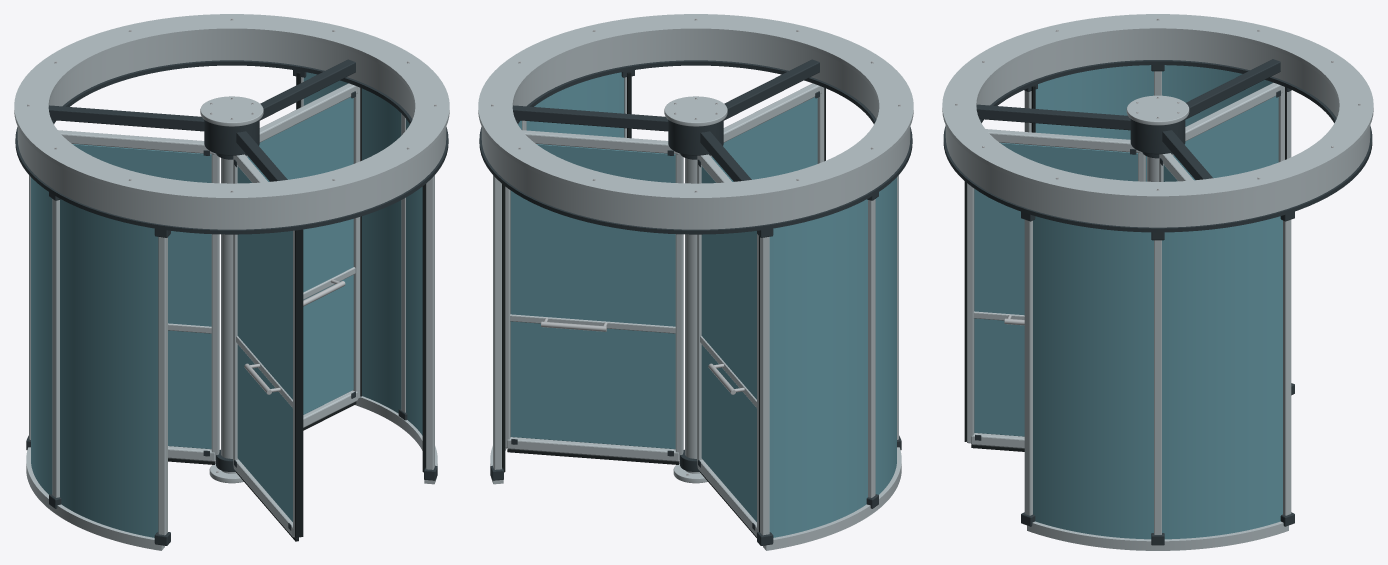
File: city-revolving-entry-door.glb
3 views of the same model, side by side, from view 1: azimuth 30°, elevation 25°; view 2: azimuth 150°, elevation 25°; view 3: azimuth 270°, elevation 25° (orthographic).
Parts seen in each view (by area): view 1: Assembly | Opaque blue-tinted glazing substitute, Assembly | Brushed natural aluminium, Assembly | Graphite anodized metal, Assembly | Black EPDM seals, Assembly | Satin stainless fasteners; view 2: Assembly | Opaque blue-tinted glazing substitute, Assembly | Brushed natural aluminium, Assembly | Graphite anodized metal, Assembly | Black EPDM seals, Assembly | Satin stainless fasteners; view 3: Assembly | Opaque blue-tinted glazing substitute, Assembly | Brushed natural aluminium, Assembly | Graphite anodized metal, Assembly | Black EPDM seals.
Boxes of the visible parts, x1,y1,x2,y2 form: Assembly | Opaque blue-tinted glazing substitute: [31, 72, 422, 537]; Assembly | Brushed natural aluminium: [14, 14, 449, 550]; Assembly | Graphite anodized metal: [15, 59, 448, 545]; Assembly | Black EPDM seals: [168, 72, 425, 541]; Assembly | Satin stainless fasteners: [27, 18, 436, 472]; Assembly | Opaque blue-tinted glazing substitute: [510, 72, 896, 537]; Assembly | Brushed natural aluminium: [478, 14, 913, 550]; Assembly | Graphite anodized metal: [479, 59, 912, 545]; Assembly | Black EPDM seals: [502, 72, 825, 537]; Assembly | Satin stainless fasteners: [491, 18, 900, 475]; Assembly | Opaque blue-tinted glazing substitute: [974, 65, 1282, 539]; Assembly | Brushed natural aluminium: [942, 14, 1373, 550]; Assembly | Graphite anodized metal: [943, 59, 1372, 545]; Assembly | Black EPDM seals: [964, 85, 1286, 451].
Bounding box in the file's own units: 2.83 × 2.64 × 2.83.
